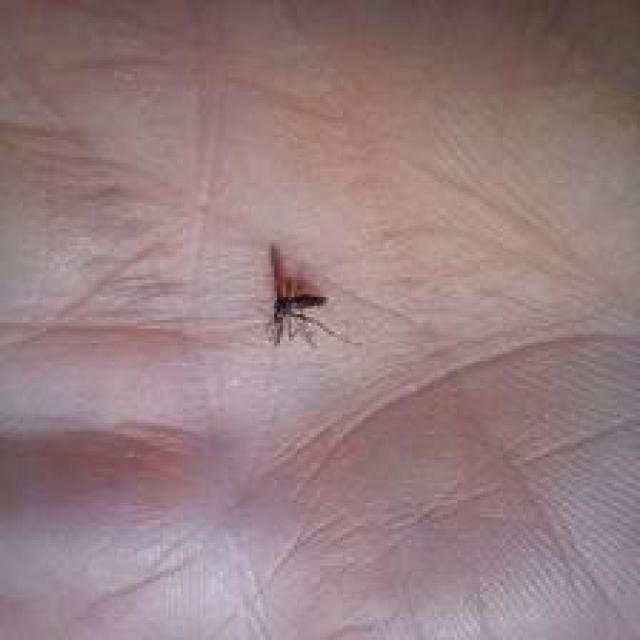Aedes albopictus: (258, 240, 358, 351)
